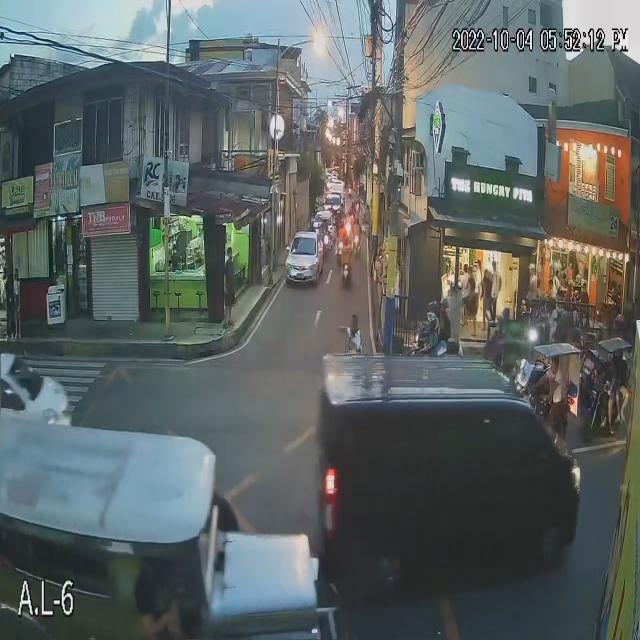helmet: (424, 302, 437, 313), (440, 298, 451, 311), (343, 234, 352, 247), (353, 216, 361, 224)
motorcycle: (408, 326, 449, 356), (341, 263, 354, 288), (352, 234, 362, 258)
rider: (436, 313, 450, 356), (425, 314, 439, 349), (340, 244, 353, 264), (352, 222, 362, 235)
